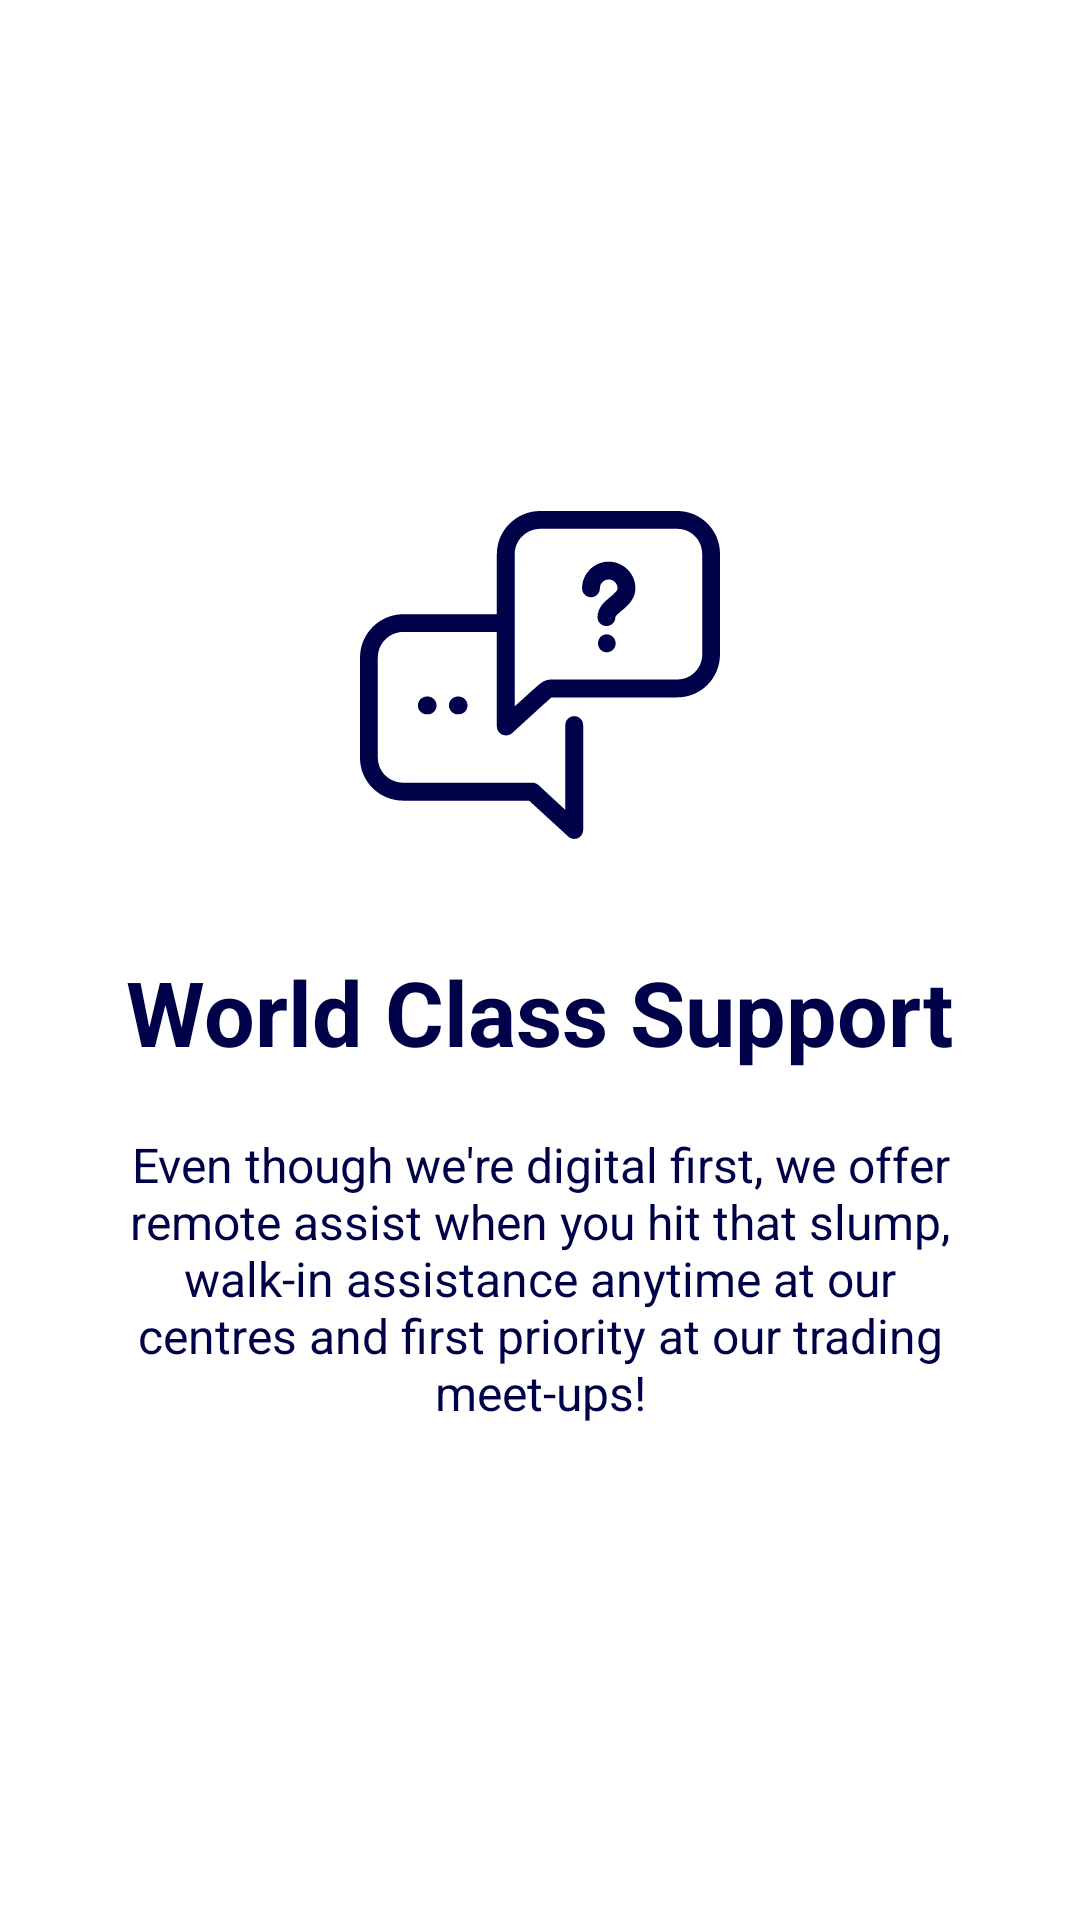

Icon bounding boxes for this 1080px x 1920px phone screenshot, format (x1, y1, x2, y2):
discuss issue: (360, 511, 720, 839)
